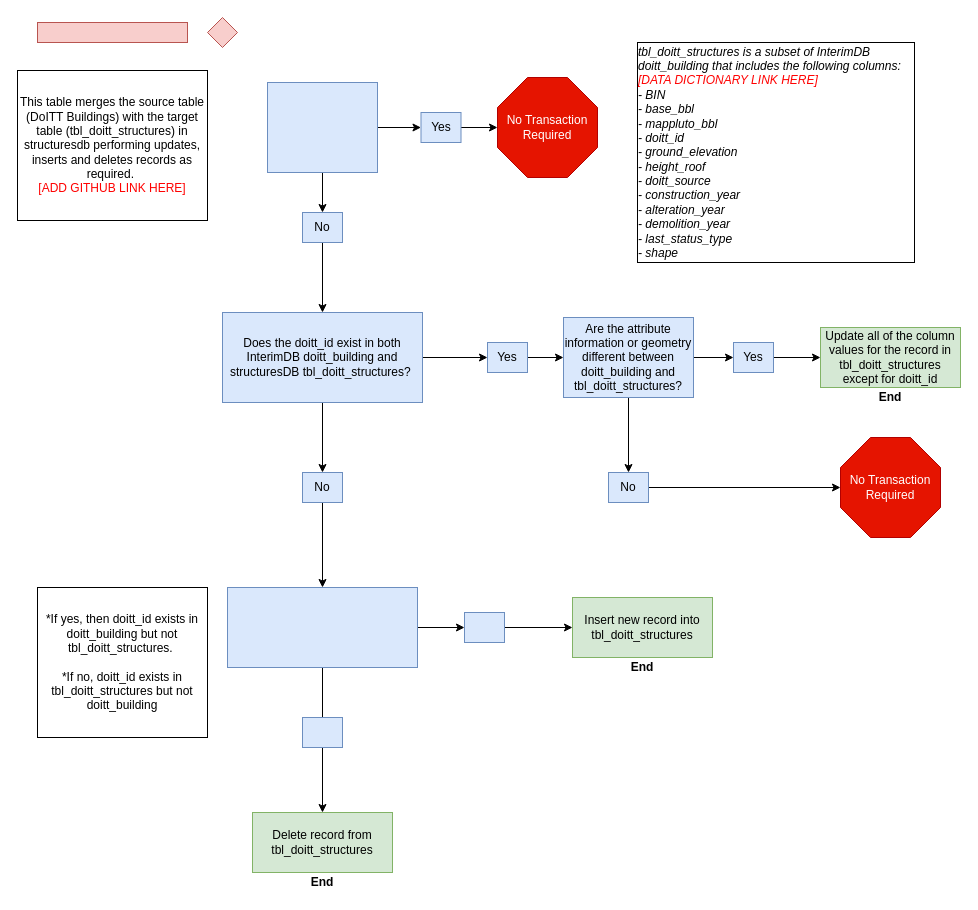
This 978x910 diagram has some shape labels left out. Here are the shapes that lost their labels. From the top down, the box of each, then its label:
(36, 22, 188, 42): sp_m_tbl_doitt_structures
(266, 82, 378, 172): Is the unique identifer (doitt_id) NULL in doitt_building in InterimDB?
(226, 586, 418, 668): Does the doitt_id exist in doitt_building, but not tbl_doitt_structures?
(464, 612, 504, 642): Yes*
(302, 716, 342, 748): No**
